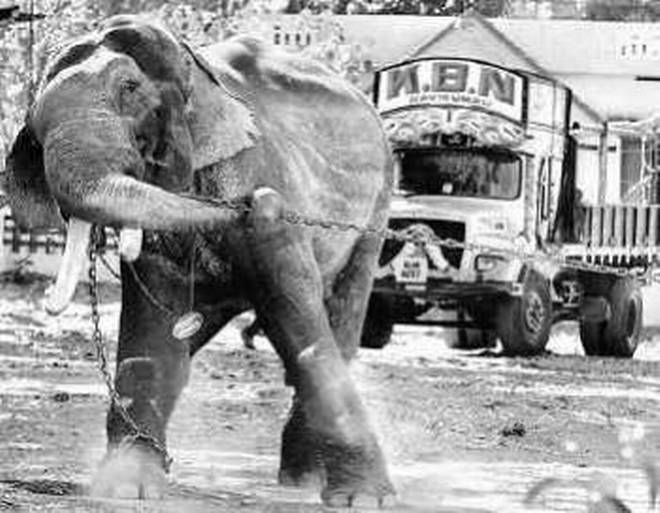elephant: (8, 20, 403, 513)
